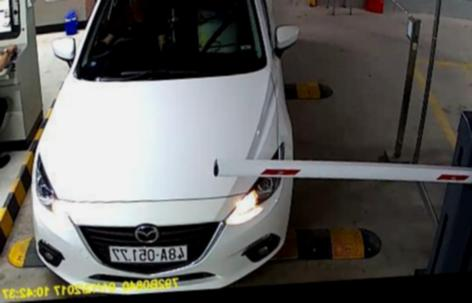License_Plate: (109, 243, 190, 266)
